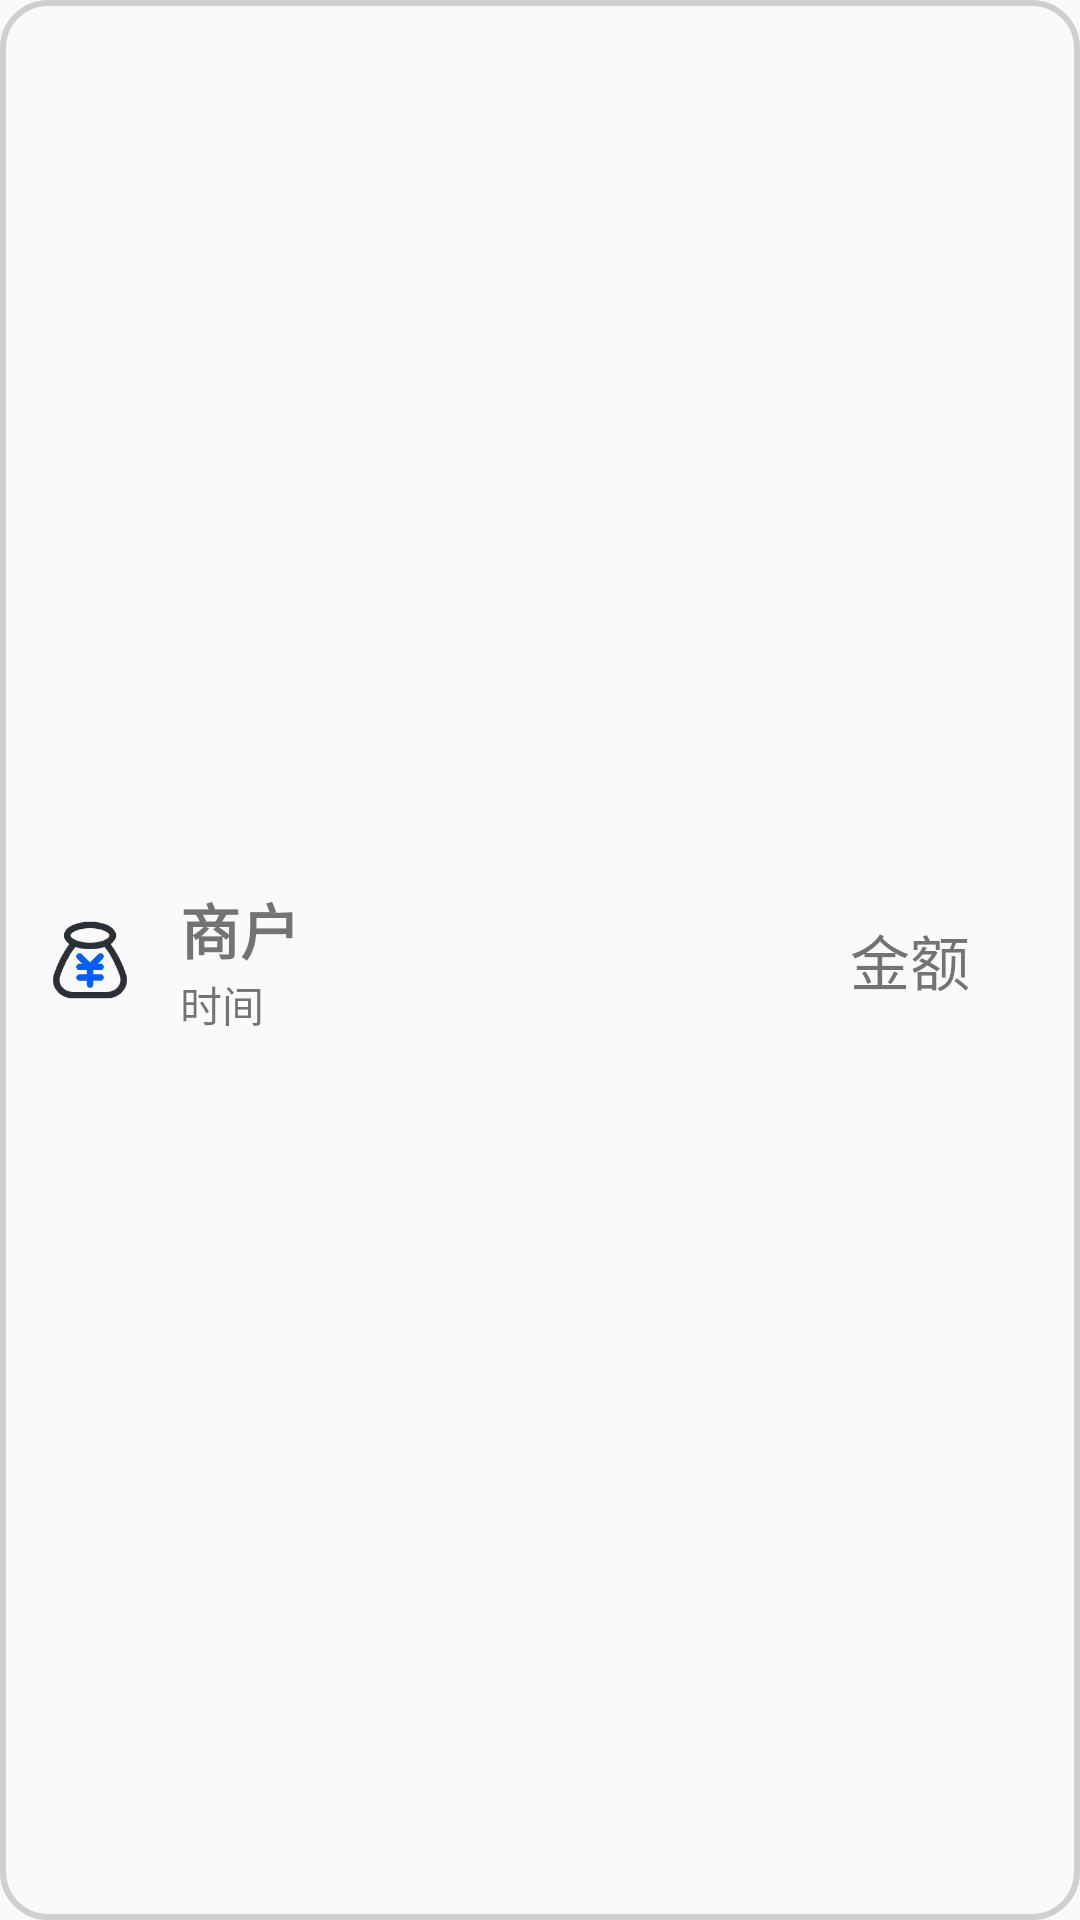

Screen size 1080w x 1920h. Icon name, then its box in pixels as (left=x1, top=y1, right=x2, bottom=y2):
xiaofei: (left=53, top=921, right=127, bottom=999)
